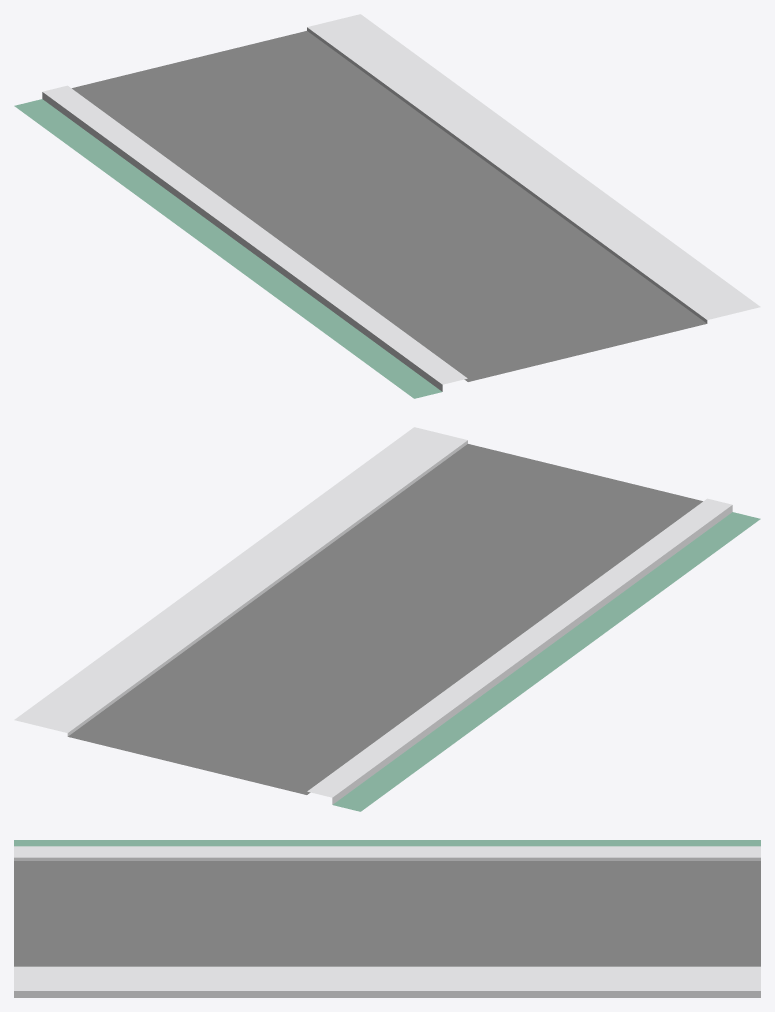
The model's file is roadPitStraightLong.glb.
3 renders of one model, top to bottom at view 1: azimuth 30°, elevation 25°; view 2: azimuth 150°, elevation 25°; view 3: azimuth 270°, elevation 25°, orthographic. The views are drawn at different scales.
Parts seen in each view (by area): view 1: roadPitStraightLong(Clone); view 2: roadPitStraightLong(Clone); view 3: roadPitStraightLong(Clone).
Part boxes in pixels (bbox=[...]): roadPitStraightLong(Clone): bbox=[14, 14, 760, 398]; roadPitStraightLong(Clone): bbox=[14, 427, 760, 811]; roadPitStraightLong(Clone): bbox=[14, 840, 760, 997].
Bounding box in the file's own units: 1 × 0.02 × 2.
